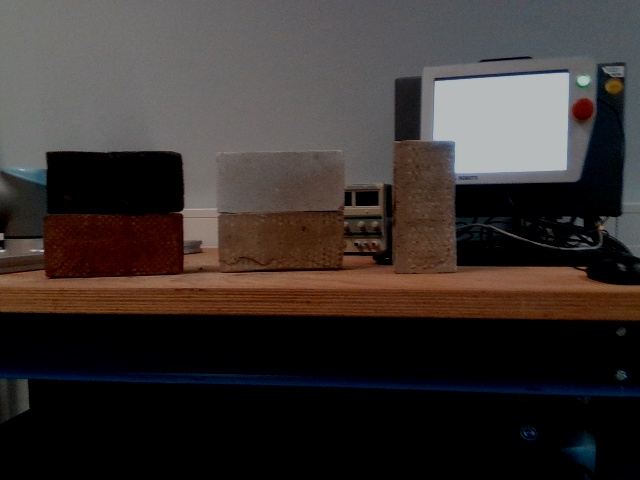brick: (45, 216, 179, 271), (48, 154, 179, 208), (397, 145, 450, 270), (219, 157, 341, 208), (221, 216, 339, 263)
